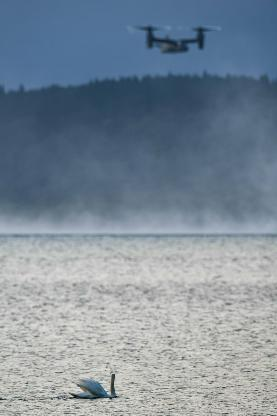Tornado: (128, 22, 221, 53)
